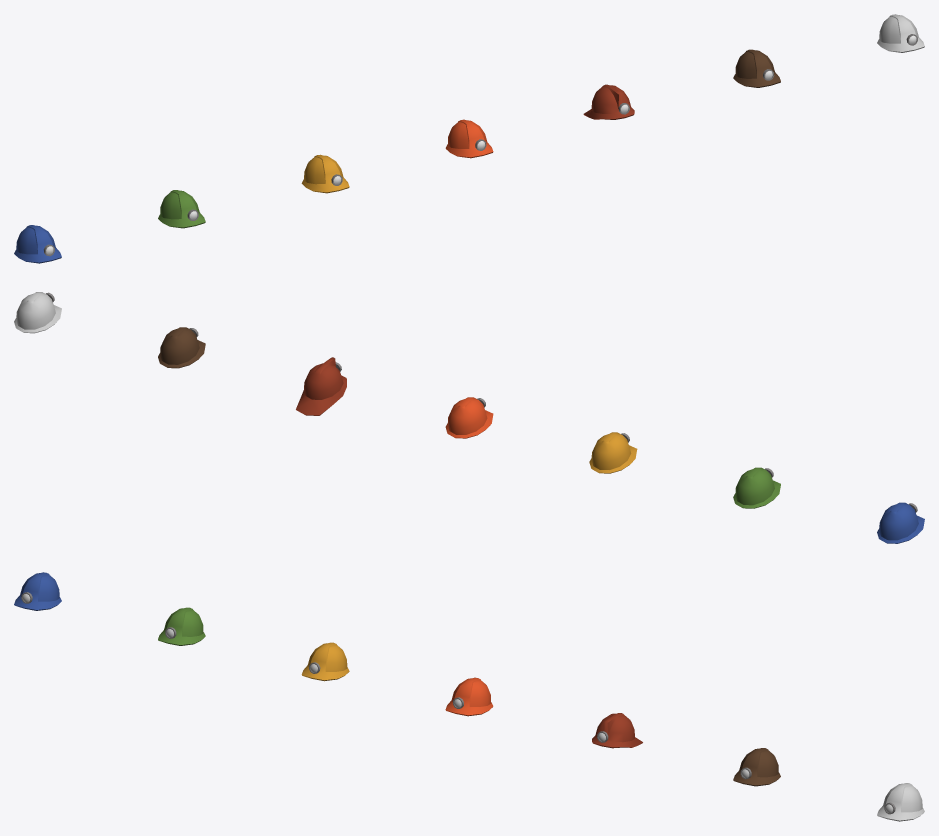
File: HardHats.fbx
3 renders of one model, top to bottom at view 1: azimuth 30°, elevation 25°; view 2: azimuth 150°, elevation 25°; view 3: azimuth 330°, elevation 25°, orthographic.
Parts seen in each view (by area): view 1: HardHatWhite, HardHatYellow, HardHatGreen, HardHatBlue, HardHatBrown, HardHatOrange, HardHatRed; view 2: HardHatRed, HardHatYellow, HardHatBrown, HardHatGreen, HardHatOrange, HardHatWhite, HardHatBlue; view 3: HardHatBlue, HardHatGreen, HardHatWhite, HardHatYellow, HardHatBrown, HardHatOrange, HardHatRed.
Boxes of the visible parts, box(x1,y1,x2,y2) form: HardHatWhite: box(877, 14, 924, 52); HardHatYellow: box(301, 154, 349, 193); HardHatGreen: box(158, 190, 205, 228); HardHatBlue: box(14, 225, 61, 263); HardHatBrown: box(733, 49, 780, 87); HardHatOrange: box(445, 119, 493, 158); HardHatRed: box(583, 84, 634, 119); HardHatRed: box(296, 357, 346, 415); HardHatYellow: box(589, 432, 637, 473); HardHatBrown: box(158, 327, 205, 368); HardHatGreen: box(733, 467, 780, 508); HardHatOrange: box(445, 397, 493, 438); HardHatWhite: box(14, 292, 61, 333); HardHatBlue: box(877, 502, 924, 543); HardHatBlue: box(14, 572, 61, 610); HardHatGreen: box(158, 607, 205, 645); HardHatWhite: box(877, 783, 924, 821); HardHatYellow: box(301, 642, 349, 681); HardHatBrown: box(733, 748, 780, 786); HardHatOrange: box(445, 677, 493, 716); HardHatRed: box(592, 713, 642, 748).
Bounding box in the file's own units: 6.26 × 0.2549 × 0.4109.
